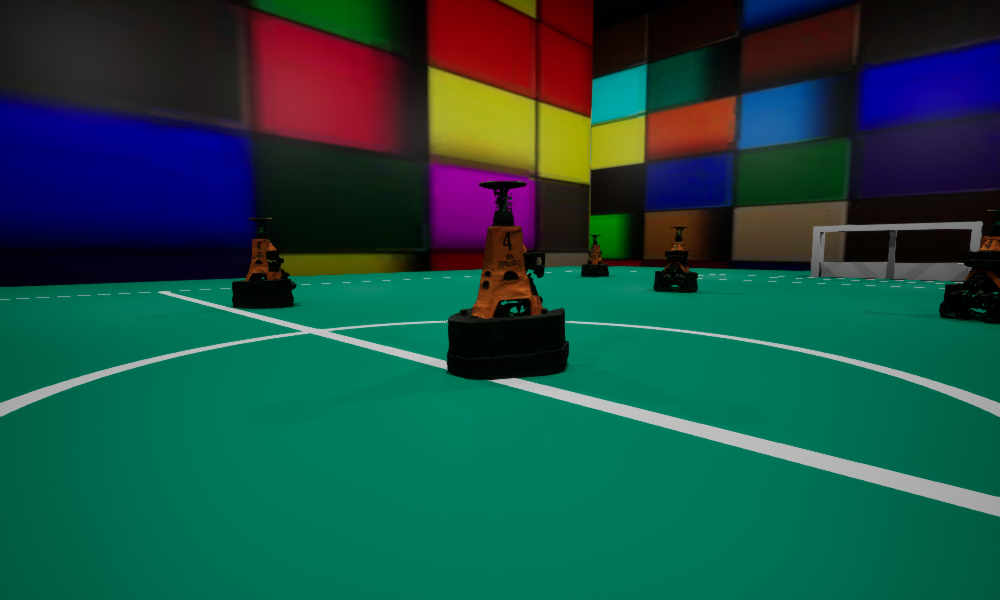0 orange robot TechUnited: (447, 181, 568, 379), (939, 210, 999, 322), (232, 218, 296, 308), (653, 227, 697, 291), (581, 235, 608, 276)
